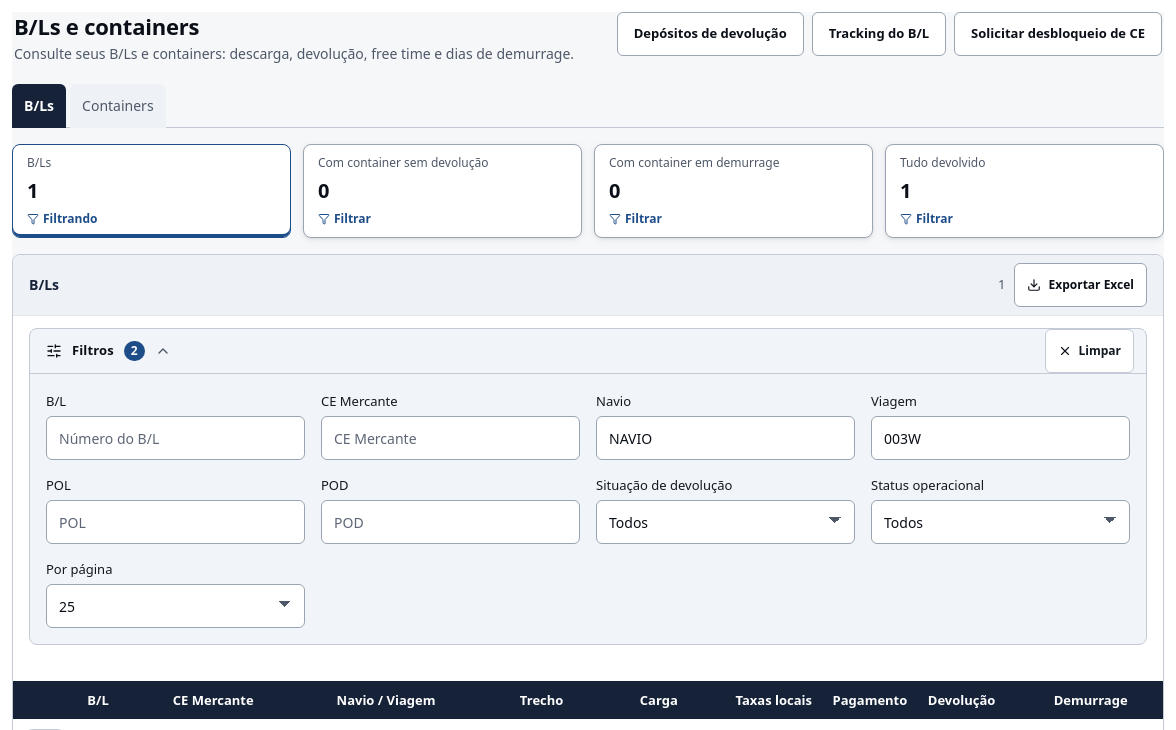
it: PortalOperacao: Navio e Viagem na URL › digitar no meio do Navio mantém o cursor no lugar
This screenshot has width=1176, height=730.
Type "XY" into the field labelled "Navio" at (726, 438), box [596, 416, 855, 460]
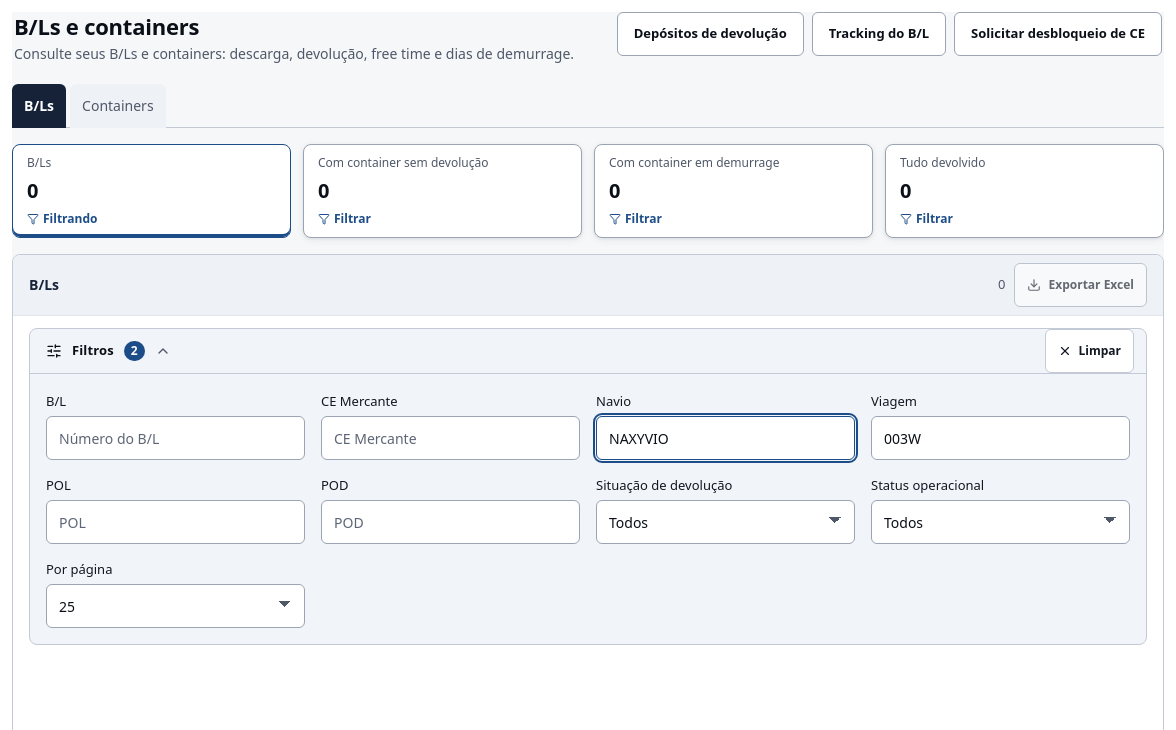
Expected: the field labelled "Navio" holds "NAXYVIO", [596, 416, 855, 460]
